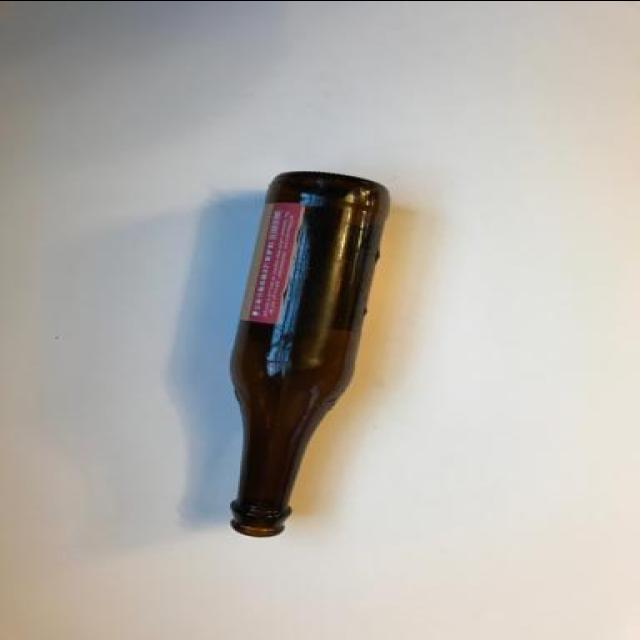litter: (223, 168, 395, 536)
